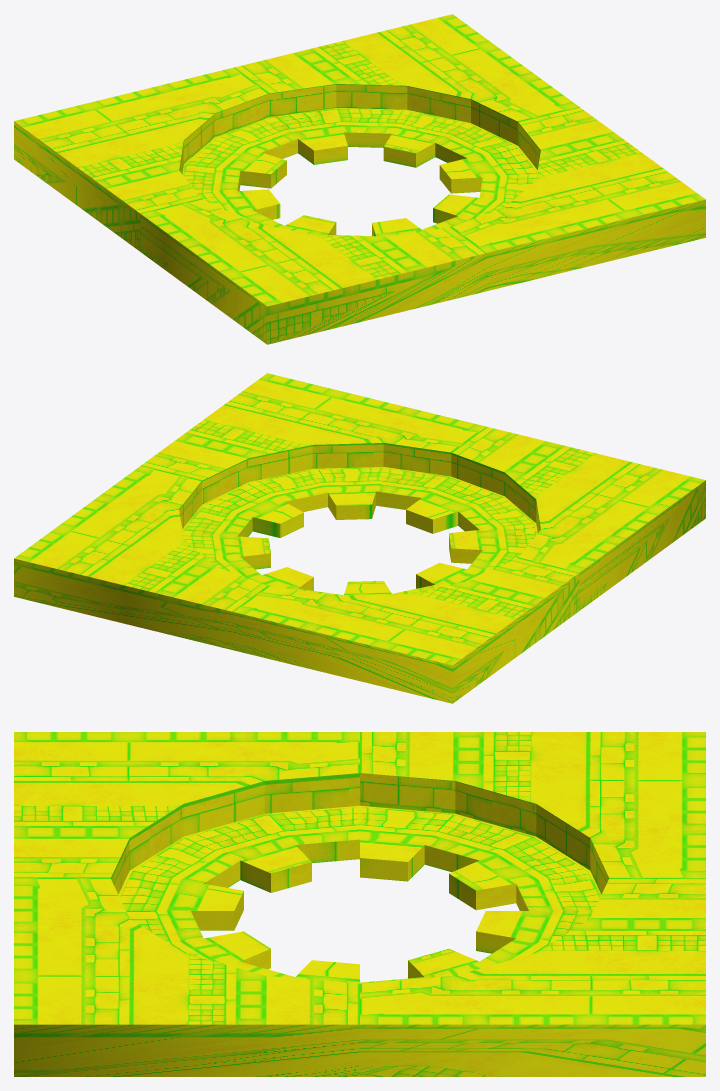
File: Ceilingfixture.fbx
The picture shows the model from 3 angles, top to bottom: view 1: azimuth 30°, elevation 25°; view 2: azimuth 150°, elevation 25°; view 3: azimuth 270°, elevation 25°; orthographic projection. The views are drawn at different scales.
Parts seen in each view (by area): view 1: Ceiling_hole; view 2: Ceiling_hole; view 3: Ceiling_hole.
Boxes of the visible parts, x1=… form: Ceiling_hole: x1=14, y1=14, x2=705, y2=344; Ceiling_hole: x1=14, y1=373, x2=705, y2=703; Ceiling_hole: x1=14, y1=732, x2=705, y2=1076.
Size of the model in its own units: 600 by 50 by 600.
